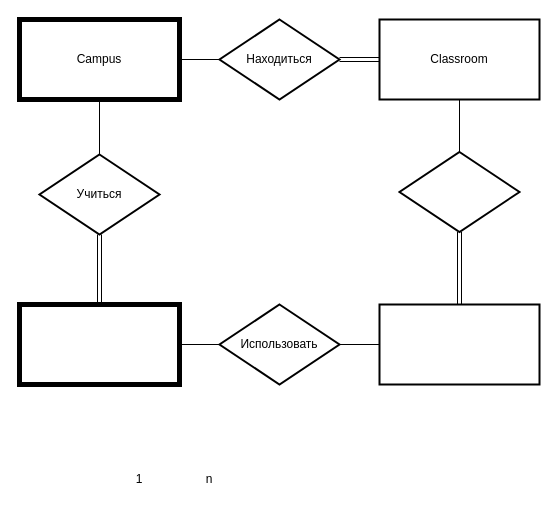
The diagram is 558 pixels wide and 507 high, and some of its shapes have lost their labels. The centre of each missing label's shape, as x and y in pixels:
ClassromActivity: the point at 459,344
User: the point at 99,344
Быть в состоянии: the point at 459,191
